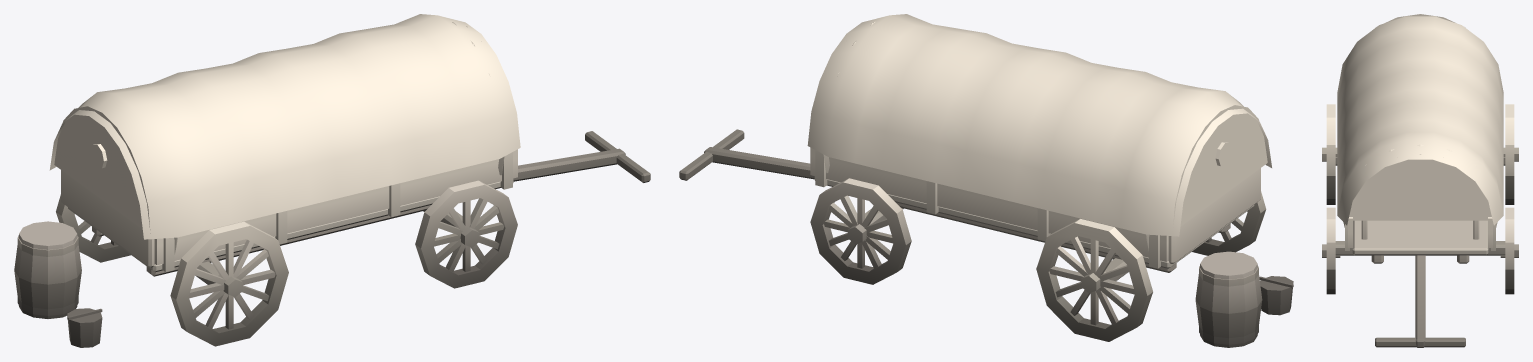
The model's file is SM_VK_Prop_Wagon_Covered.fbx.
The picture shows the model from 3 angles, left to right: view 1: azimuth 30°, elevation 25°; view 2: azimuth 150°, elevation 25°; view 3: azimuth 270°, elevation 25°; orthographic projection. The views are drawn at different scales.
Parts seen in each view (by area): view 1: SM_VK_Prop_Wagon_Covered.001; view 2: SM_VK_Prop_Wagon_Covered.001; view 3: SM_VK_Prop_Wagon_Covered.001.
Part boxes in pixels (bbox=[...]): SM_VK_Prop_Wagon_Covered.001: bbox=[14, 14, 650, 347]; SM_VK_Prop_Wagon_Covered.001: bbox=[679, 14, 1293, 347]; SM_VK_Prop_Wagon_Covered.001: bbox=[1322, 14, 1518, 347].
Size of the model in its own units: 5.16 by 1.8 by 1.94.
